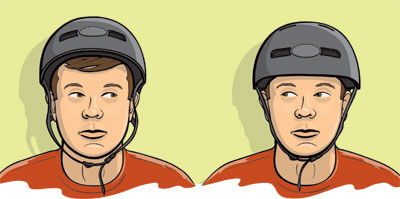helmet: (252, 22, 361, 162), (40, 17, 146, 159)
